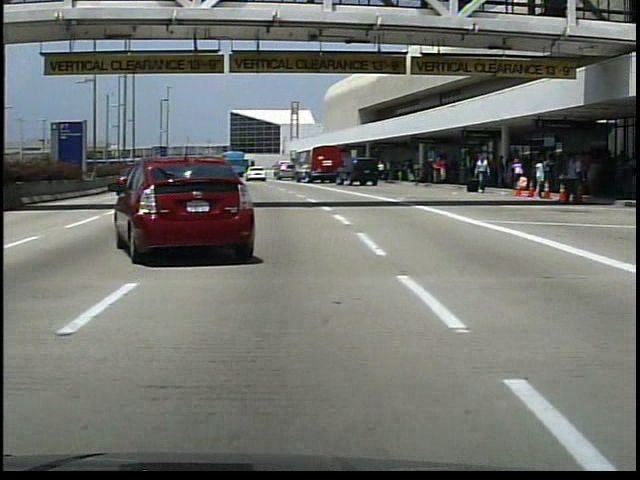person: (560, 154, 580, 206), (474, 154, 493, 195), (431, 156, 447, 184), (376, 161, 388, 182)
